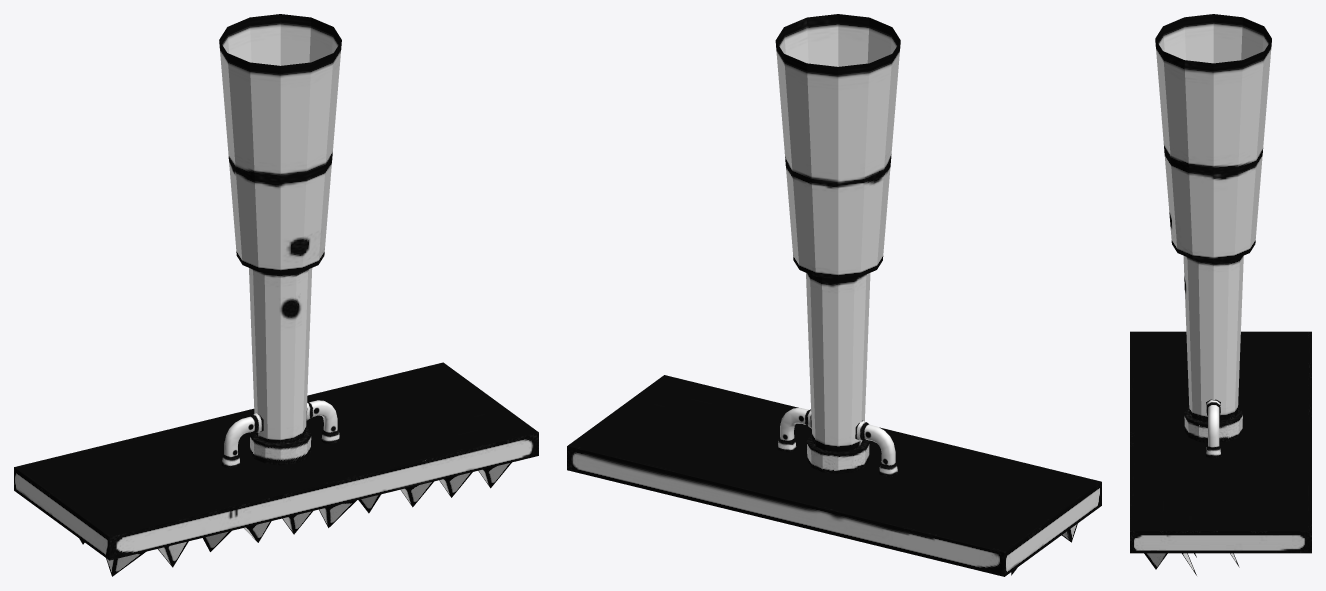
The model's file is prop_ponder_03.fbx.
3 renders of one model, left to right at view 1: azimuth 30°, elevation 25°; view 2: azimuth 150°, elevation 25°; view 3: azimuth 270°, elevation 25°, orthographic. The views are drawn at different scales.
Visible parts, largest first — view 1: wallSwitch:pounder; view 2: wallSwitch:pounder; view 3: wallSwitch:pounder.
Boxes of the visible parts, left/top/right/bottom form: wallSwitch:pounder: left=14, top=14, right=538, bottom=576; wallSwitch:pounder: left=567, top=14, right=1101, bottom=576; wallSwitch:pounder: left=1130, top=14, right=1311, bottom=575.
Size of the model in its own units: 200 by 210 by 77.07.
